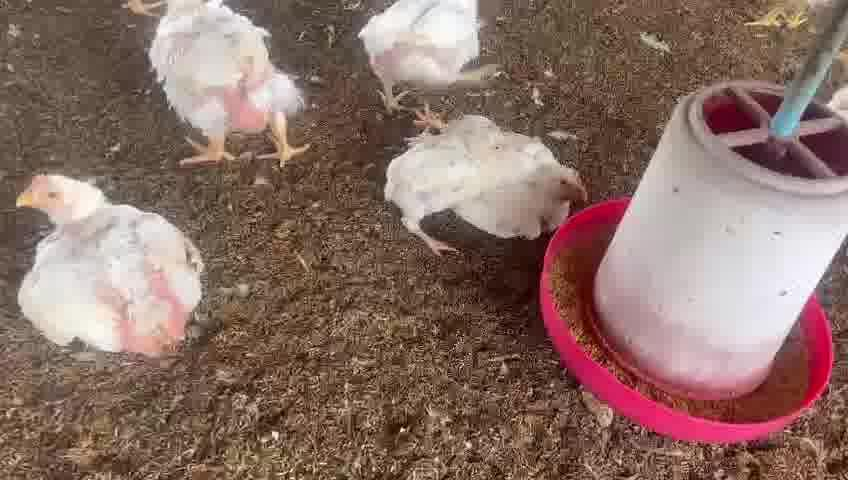AbNormal: (384, 79, 586, 251)
Normal: (8, 170, 221, 360), (134, 0, 334, 182), (365, 0, 505, 105)
